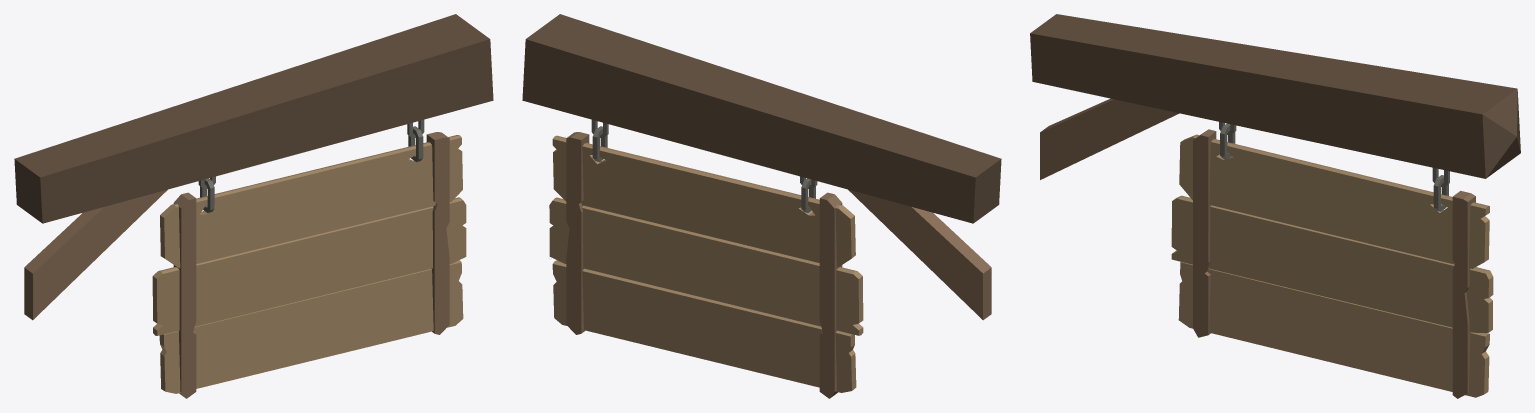
File: Wall_Prop_Sign_1.glb
3 renders of one model, left to right at view 1: azimuth 30°, elevation 25°; view 2: azimuth 150°, elevation 25°; view 3: azimuth 330°, elevation 25°, orthographic. The views are drawn at different scales.
Parts seen in each view (by area): view 1: Wall_Prop_Sign_1; view 2: Wall_Prop_Sign_1; view 3: Wall_Prop_Sign_1.
Part boxes in pixels (x1=…): Wall_Prop_Sign_1: x1=14, y1=14, x2=493, y2=398; Wall_Prop_Sign_1: x1=522, y1=14, x2=1001, y2=398; Wall_Prop_Sign_1: x1=1030, y1=14, x2=1520, y2=398.
Size of the model in its own units: 1.55 by 0.9579 by 0.2.
